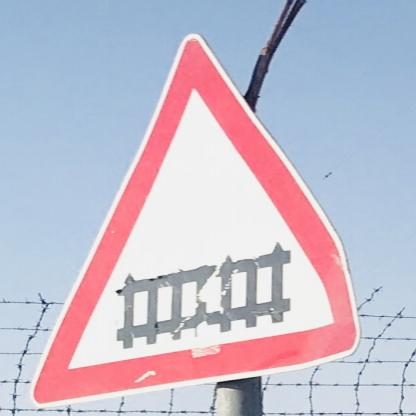Railway Crossing: (29, 32, 356, 405)
